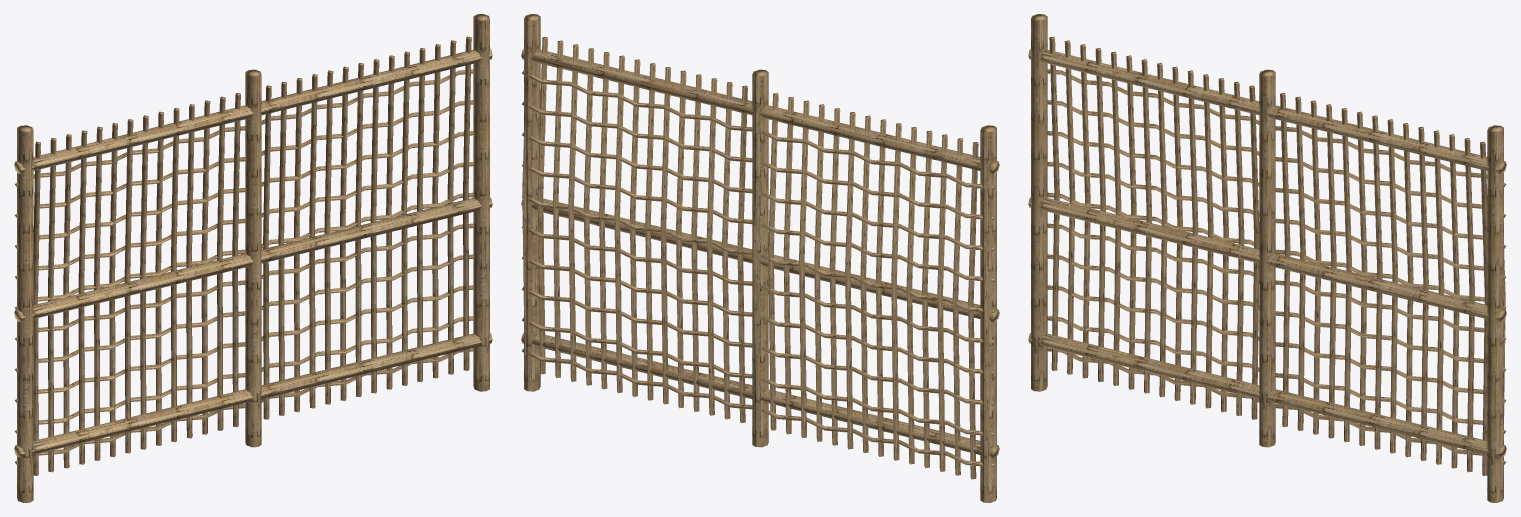
The model's file is prop_fence.glb.
3 views of the same model, side by side, from view 1: azimuth 30°, elevation 25°; view 2: azimuth 150°, elevation 25°; view 3: azimuth 330°, elevation 25° (orthographic).
Parts seen in each view (by area): view 1: prop_fence; view 2: prop_fence; view 3: prop_fence.
Part boxes in pixels (x1,y1,x2,y2): prop_fence: (14,14,492,502); prop_fence: (521,14,999,502); prop_fence: (1028,14,1506,502).
Size of the model in its own units: 2 by 1.5 by 0.0901.
1 material, 1 textured.
